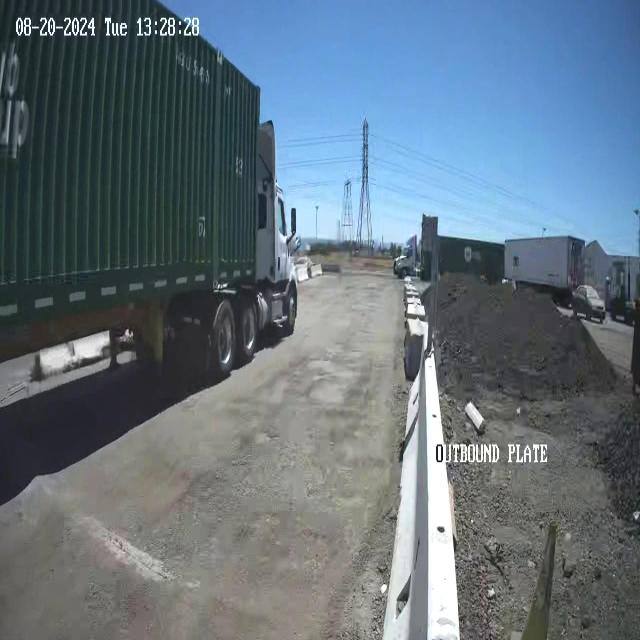TRUCK_CONTAINER: (1, 1, 299, 387)
